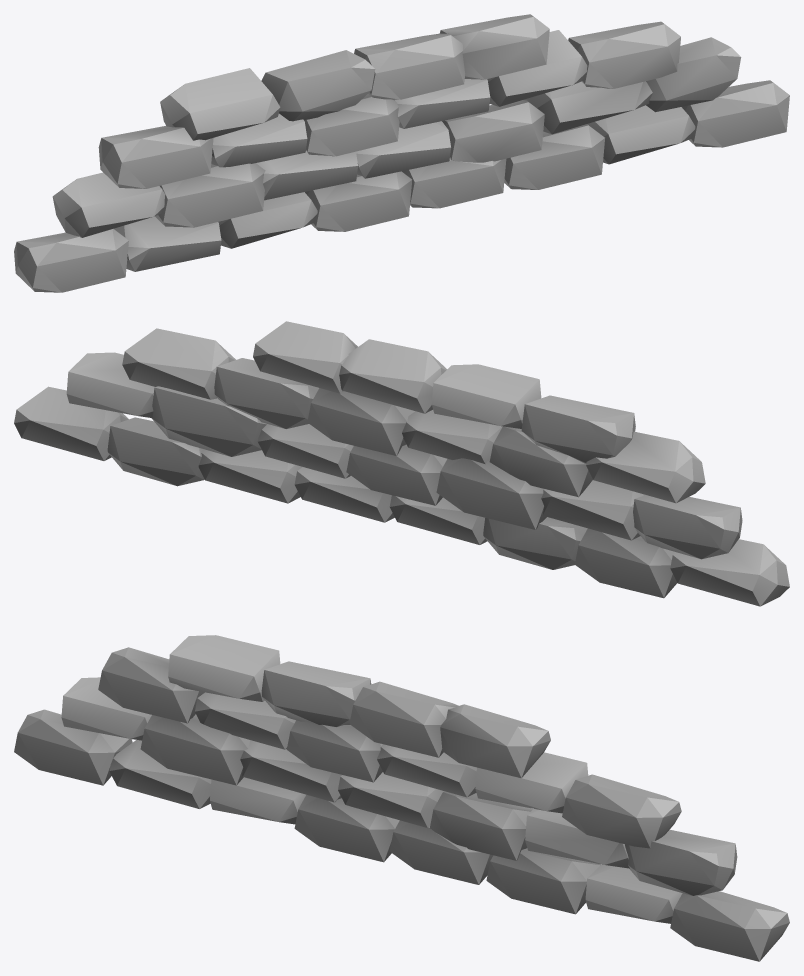
The model's file is stone_fence_001.glb.
3 renders of one model, top to bottom at view 1: azimuth 30°, elevation 25°; view 2: azimuth 150°, elevation 25°; view 3: azimuth 330°, elevation 25°, orthographic.
Visible parts, largest first — view 1: stone_fence_001; view 2: stone_fence_001; view 3: stone_fence_001.
Part boxes in pixels (x1=…): stone_fence_001: x1=14, y1=14, x2=789, y2=292; stone_fence_001: x1=14, y1=321, x2=789, y2=606; stone_fence_001: x1=14, y1=635, x2=789, y2=961.
Size of the model in its own units: 4.17 by 0.9267 by 0.3492.
Materials: 1 (1 with a texture image).
